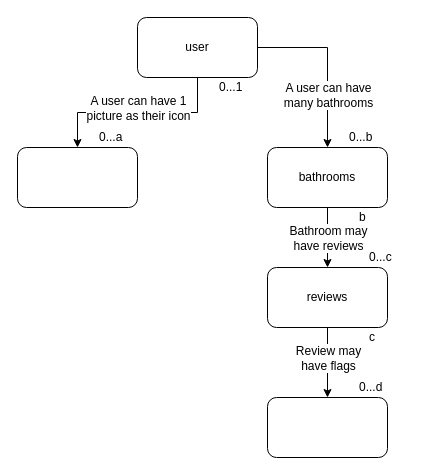
Image size: 425x475. Some labels were removed from this diagram. Here are the shapes that lost their labels. From the top down, the box of each, then its label:
(16, 146, 138, 208): picture
(266, 396, 388, 458): flags
